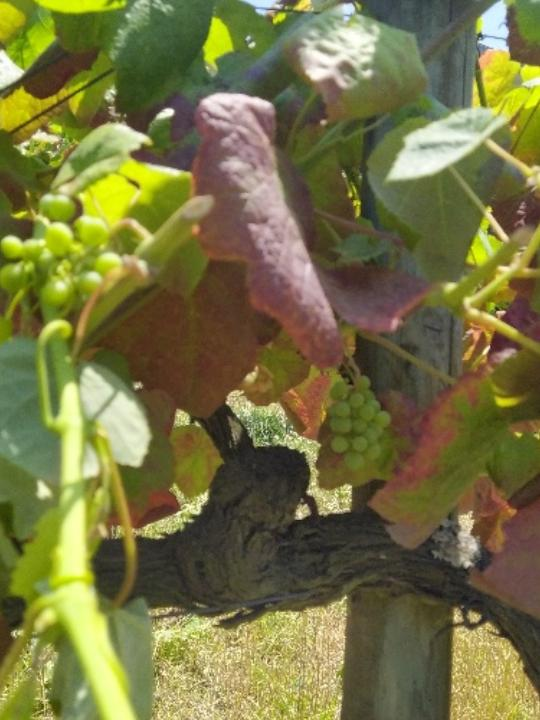grape: (0, 192, 122, 324), (317, 372, 392, 478)
